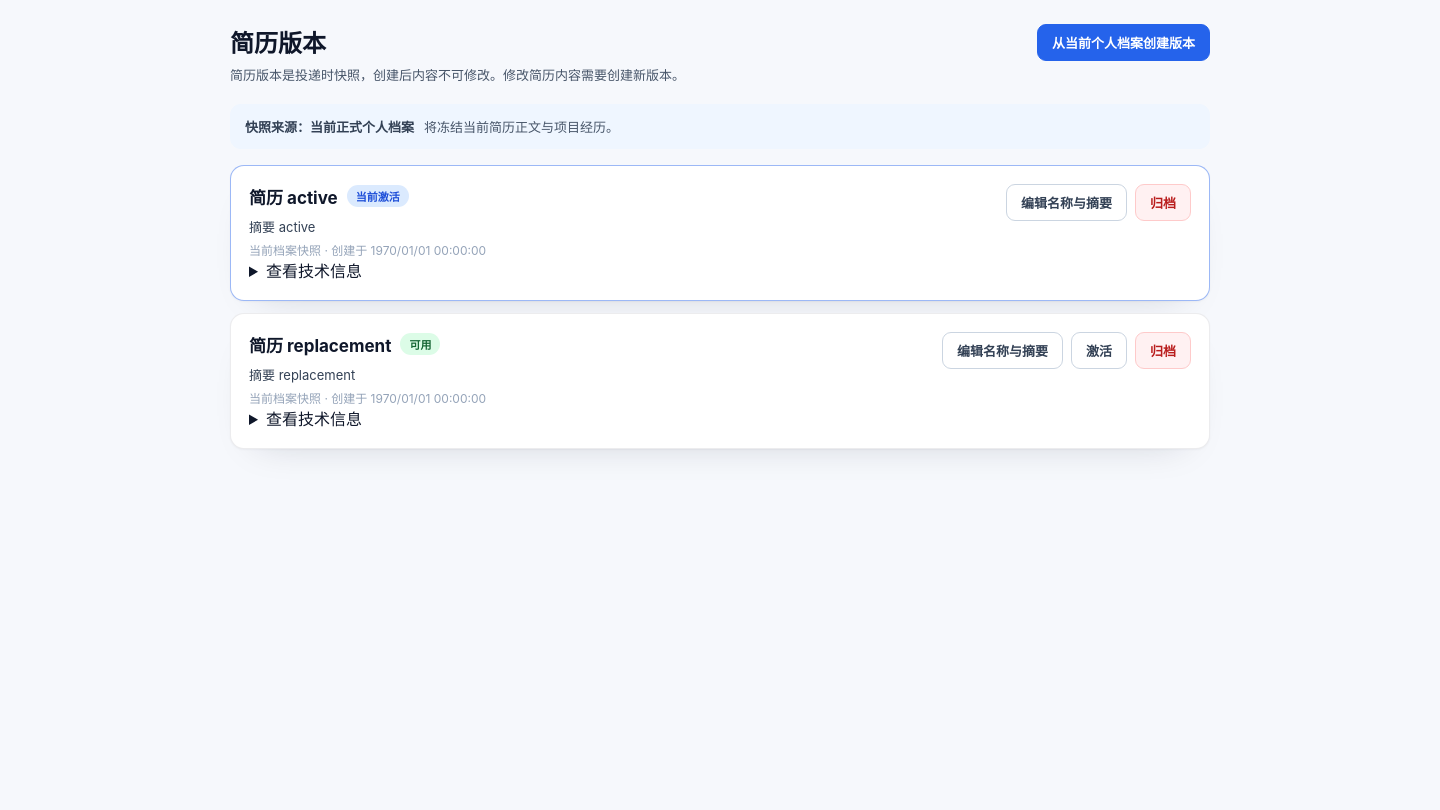
Scenario: ResumeVersionsPage › 归档 active 版本必须选择替代或明确清空，且不会发送 DELETE
Click the button "归档" in the row of "当前激活" at (1163, 202), box [1135,184,1191,221]
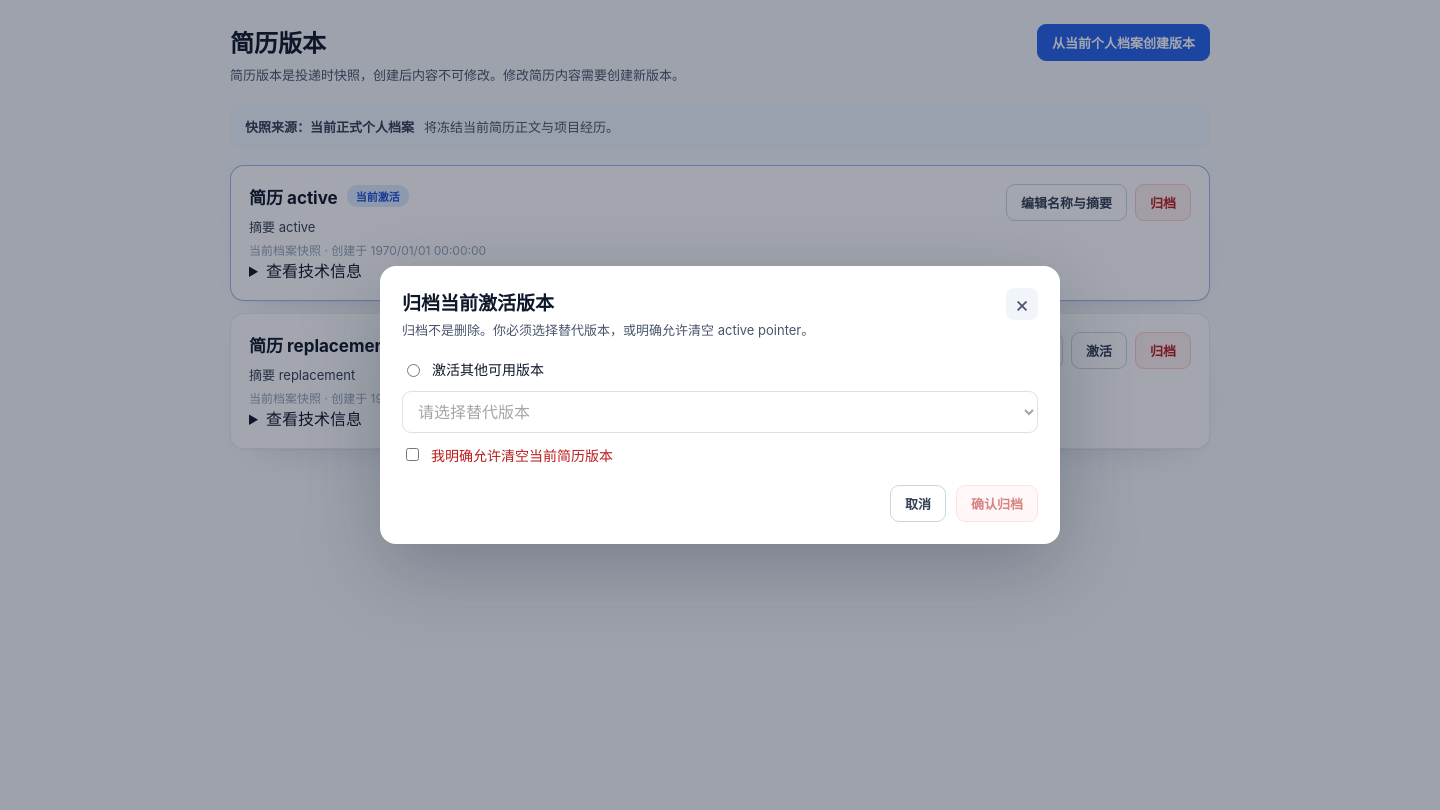
Click the radio button labelled "激活其他可用版本" at (414, 370), box [407,364,420,377]
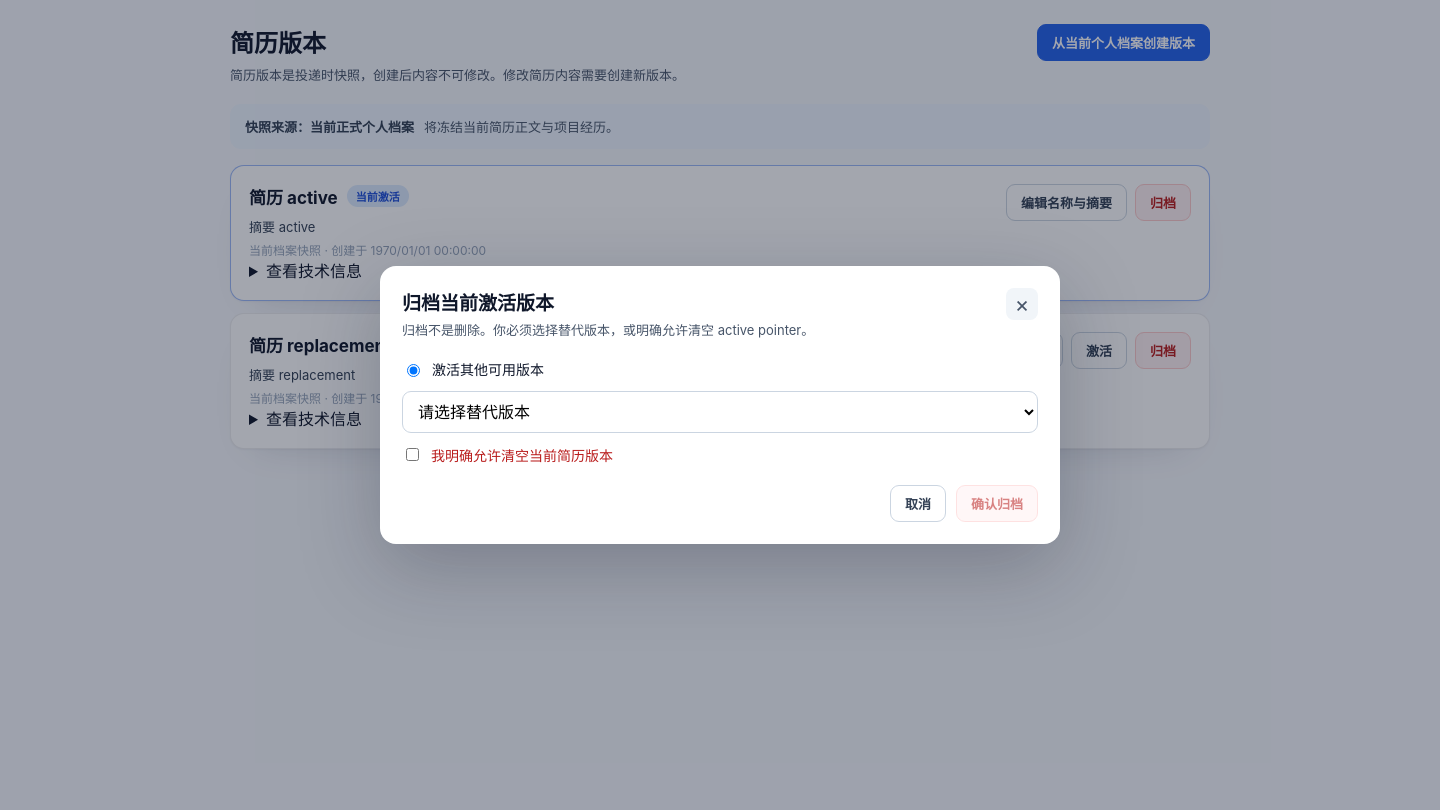
Select "简历 replacement" in the dropdown named "替代简历版本" at (720, 412), box [402,391,1038,433]
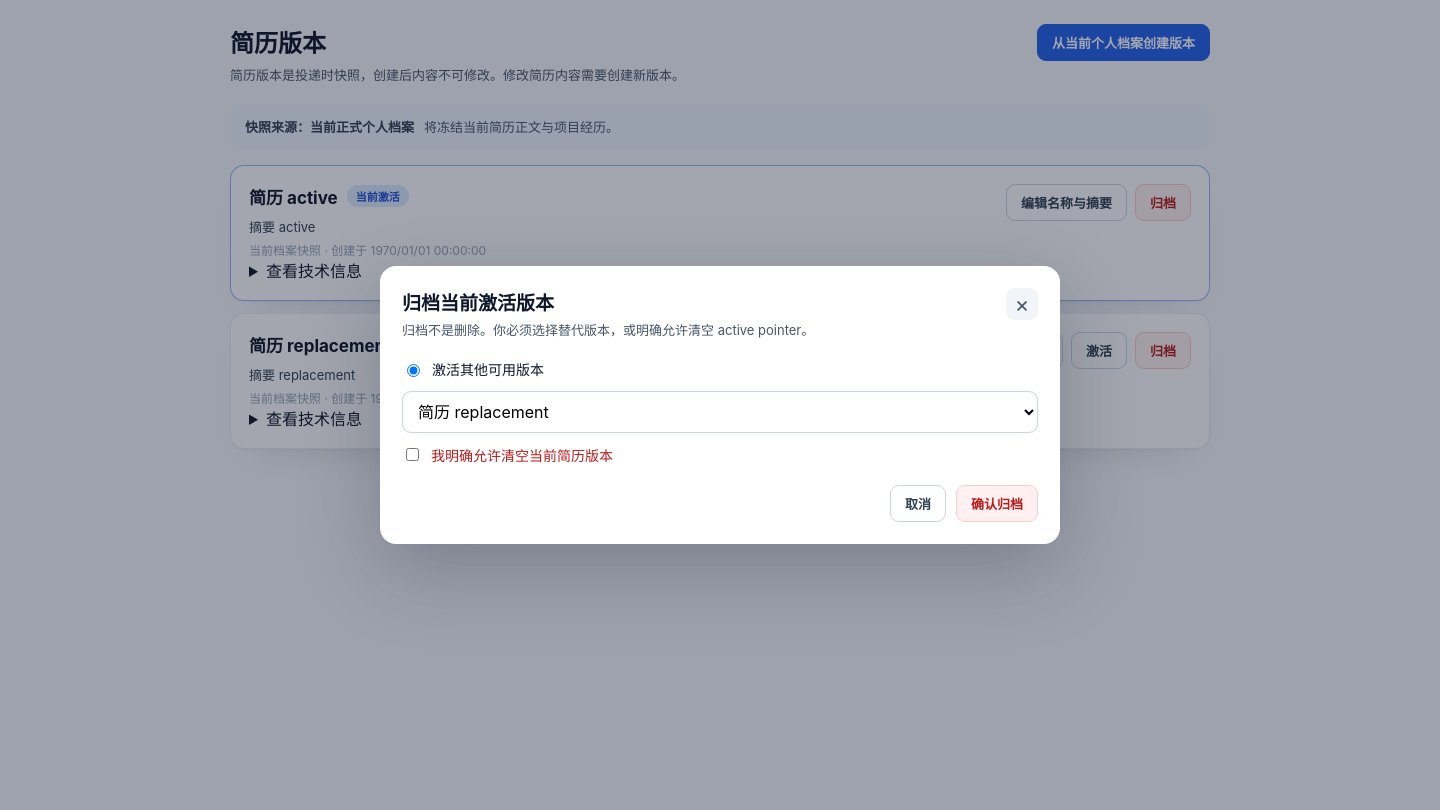
Click the button "确认归档" at (997, 503), box [956,485,1038,522]
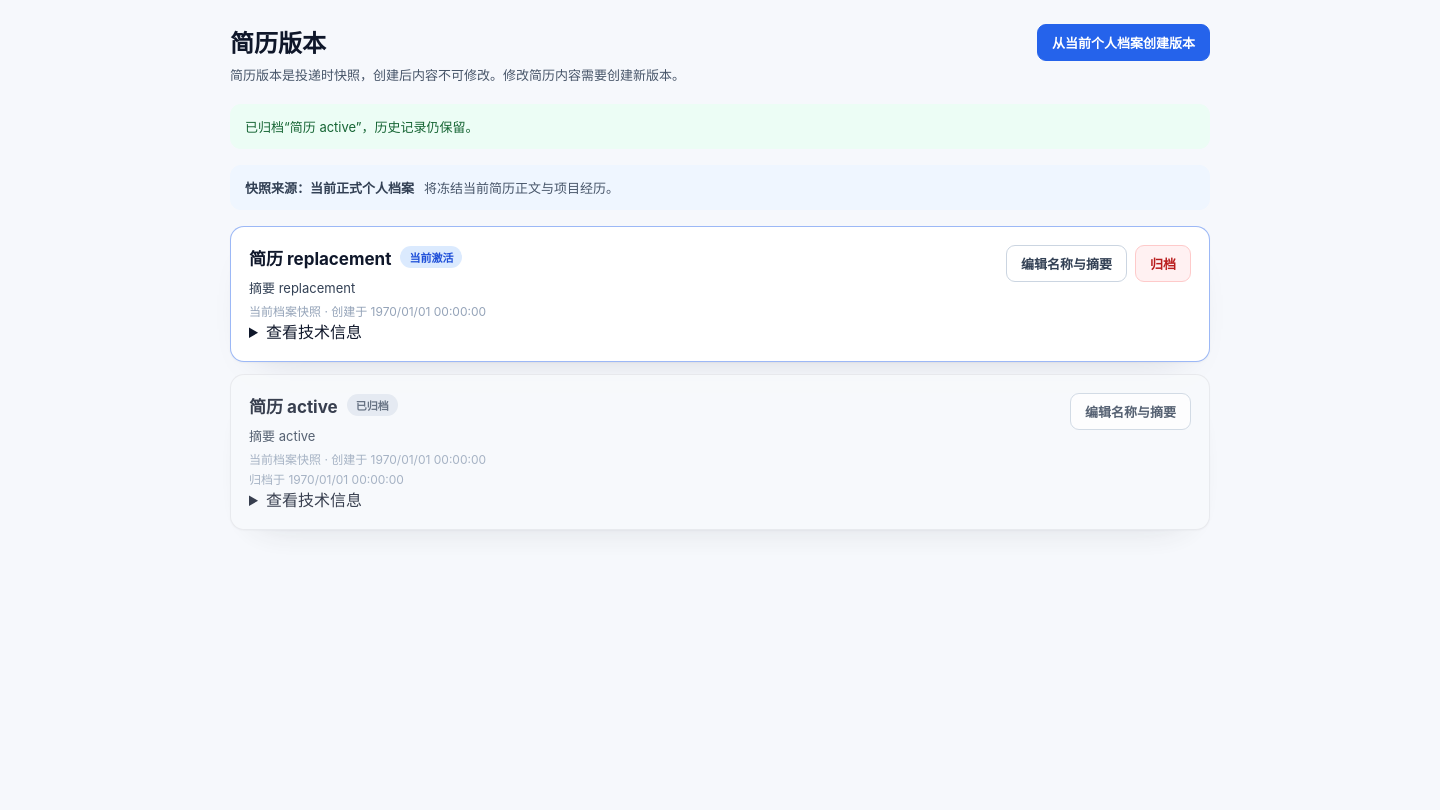
Expected: the text "历史记录仍保留" is shown, [245,119,479,135]
